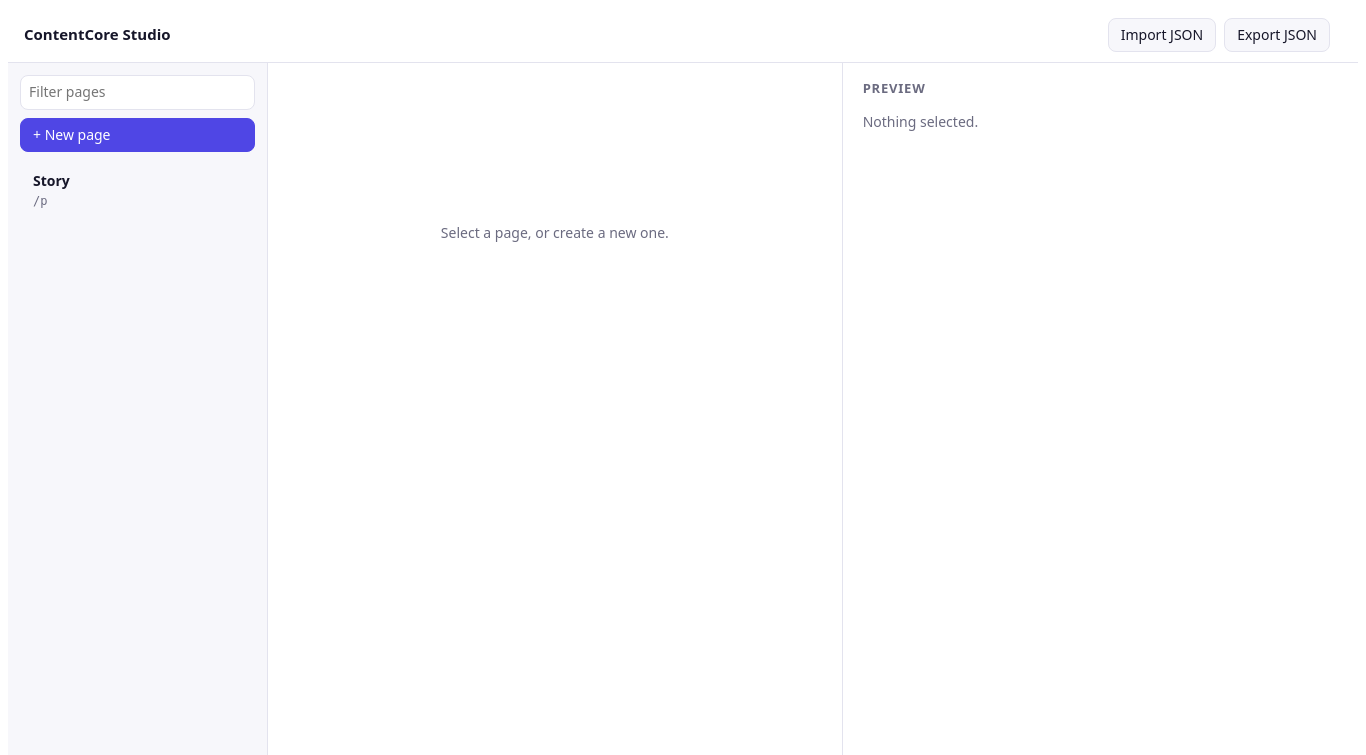
Test: ContentStudio › edits rich text in the html block and stores cleaned nodes
The image size is (1366, 755).
Later steps or results of the test are not shown.
Click the button "Story /p" at [138, 191], box [20,164,255,218]
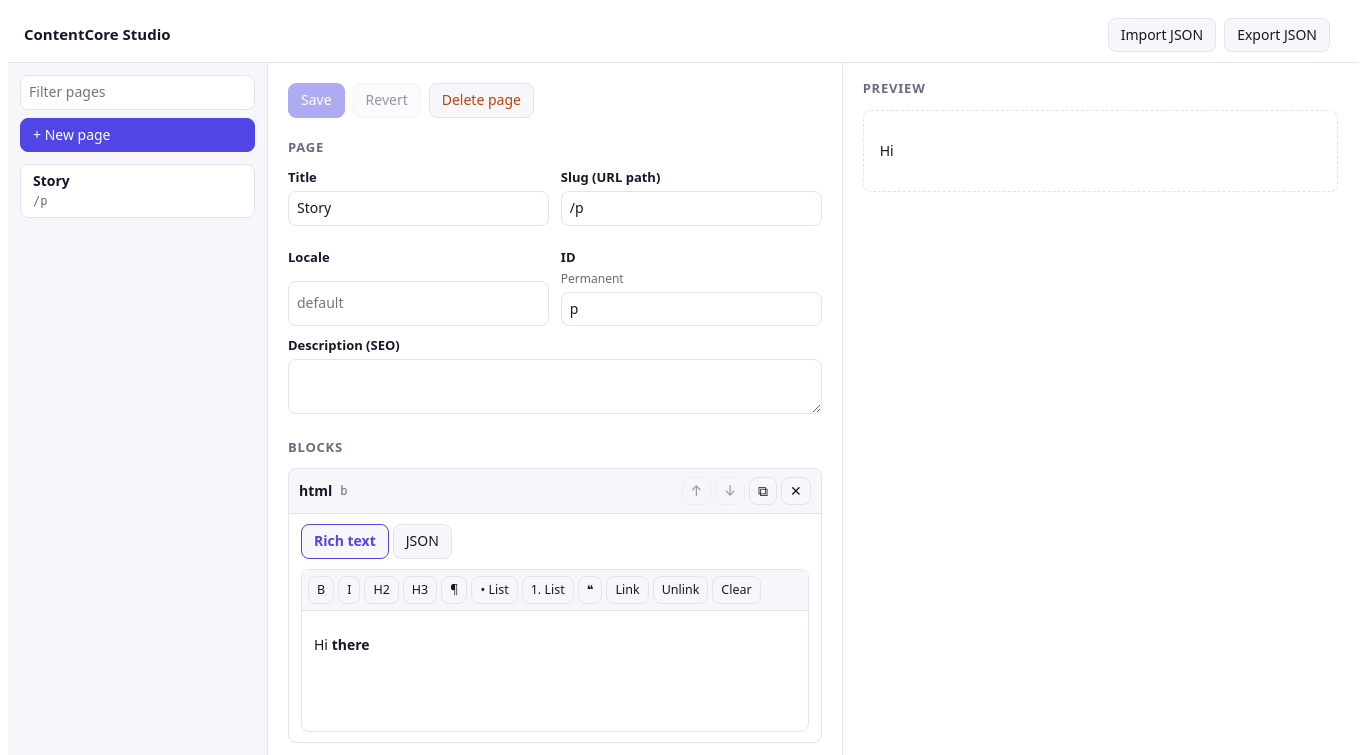
Clear the field with class "cc-rte-area" at [342, 644], box [314,635,370,654]
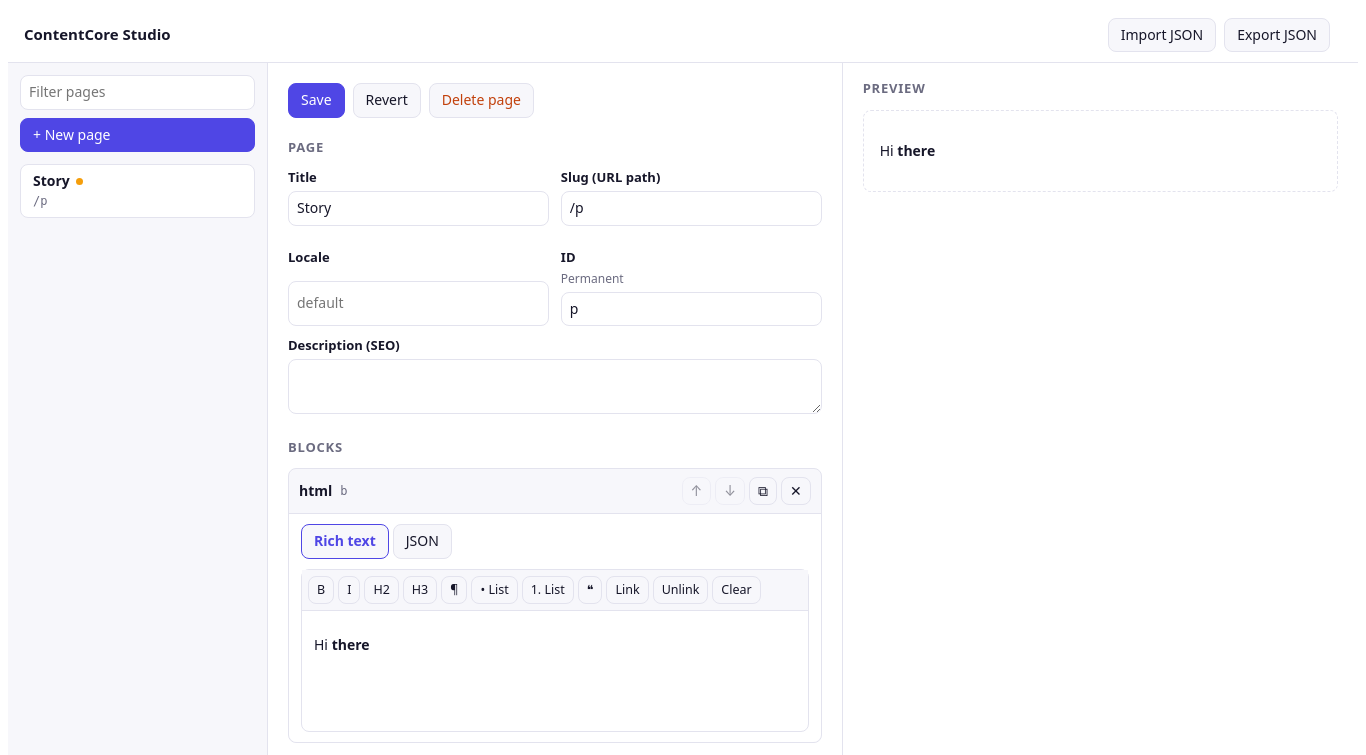
Now the text "there" is shown, box [897,141,935,160]
